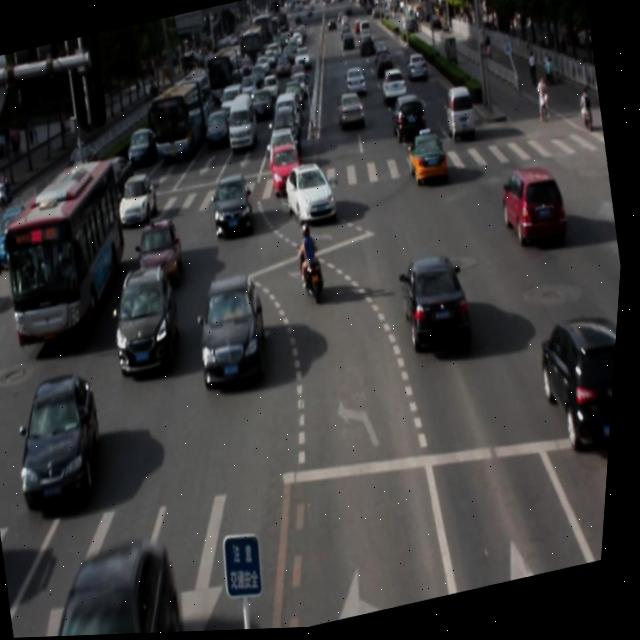car: (40, 535, 197, 638), (11, 369, 119, 509), (535, 313, 623, 463), (190, 269, 279, 391), (106, 260, 194, 379), (398, 249, 481, 358), (498, 163, 573, 251), (281, 161, 345, 232), (134, 215, 192, 291), (209, 171, 260, 240), (405, 127, 452, 185)
van: (0, 157, 146, 351)
